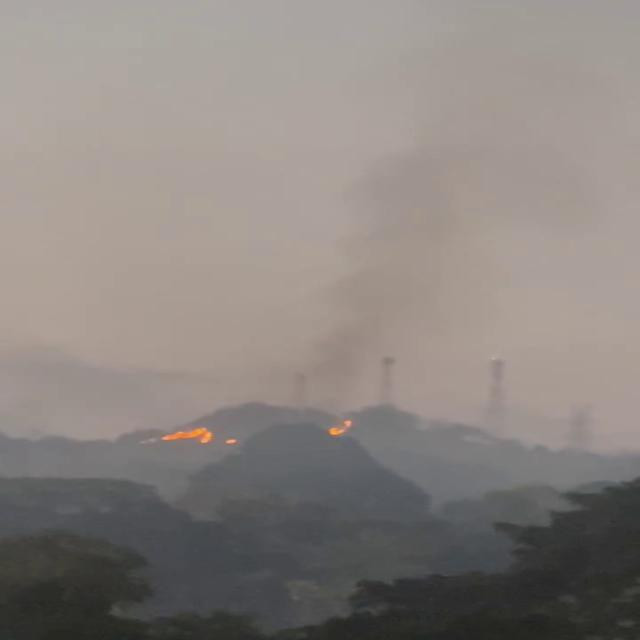Fire: (157, 422, 221, 445), (323, 414, 358, 440)
Smoke: (252, 5, 640, 453)
